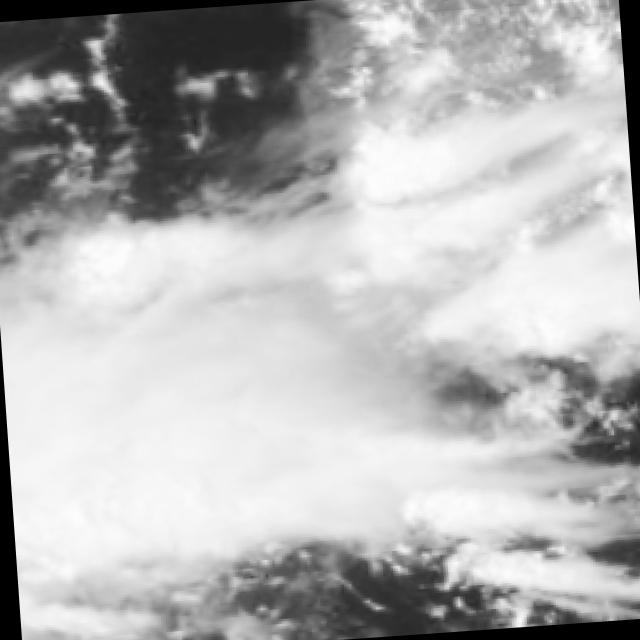CB: (0, 245, 340, 542), (469, 96, 640, 354)
